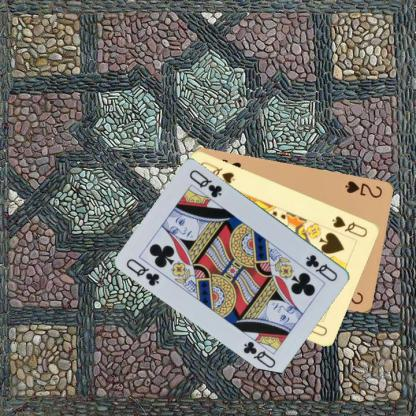2s: (342, 178, 384, 199)
Qc: (303, 251, 339, 283), (124, 256, 161, 287)
Qs: (330, 213, 369, 239)
